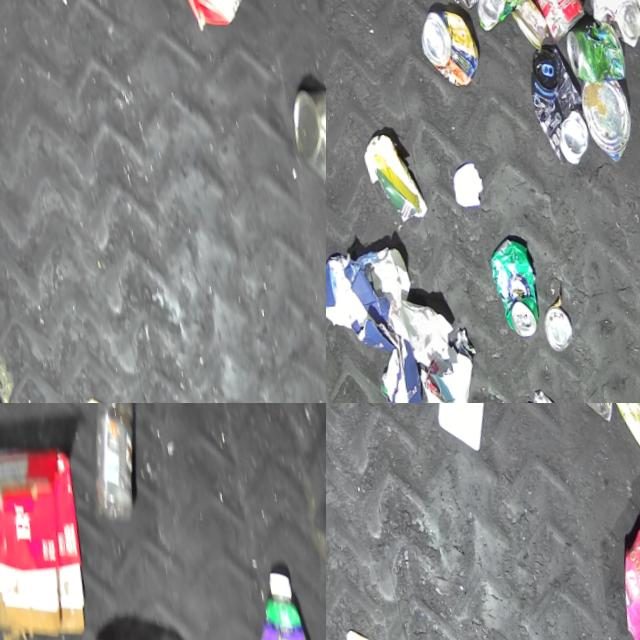can: (520, 41, 592, 167), (480, 233, 540, 340), (413, 3, 482, 90), (575, 74, 637, 163), (283, 77, 326, 198), (559, 16, 624, 85), (506, 0, 588, 43), (580, 0, 640, 50), (505, 0, 549, 50), (466, 0, 526, 30), (536, 302, 571, 351)
milk_jug: (412, 403, 510, 454)
plastic_bottle: (68, 403, 159, 531)
